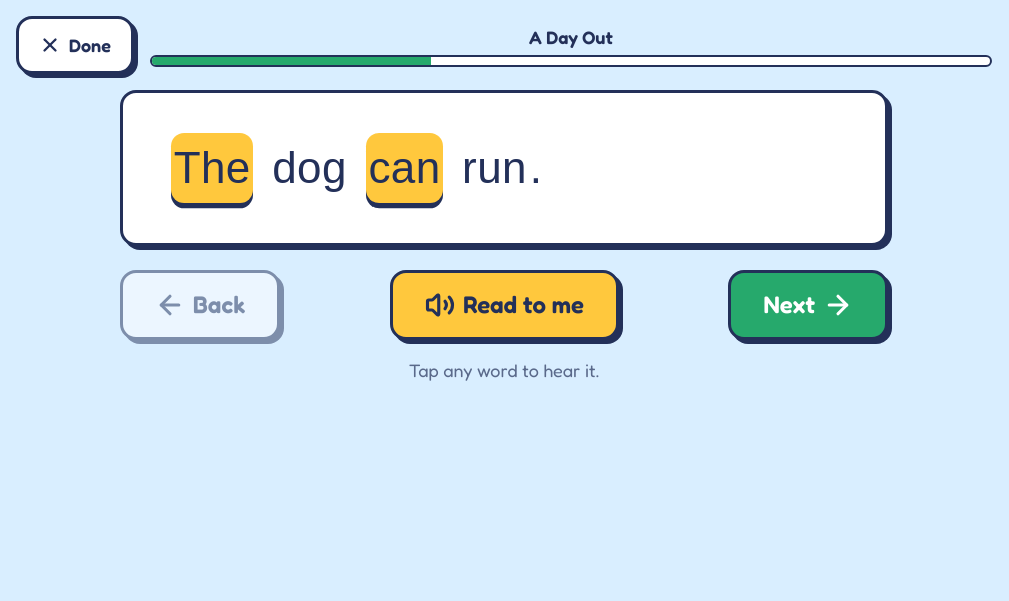
Test: StoryReader › marks a saved story as saved
What coordinates should you click on to do the following:
click the button "Next"
I would click on:
 (808, 305)
Its box is [728,270,888,340].
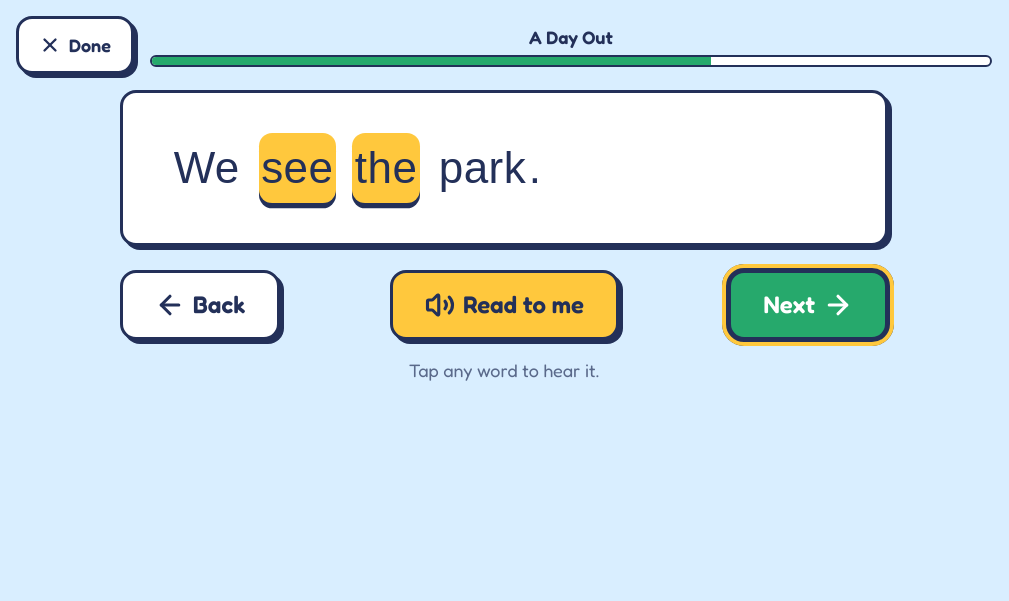
What coordinates should you click on to do the following:
click the button "Next"
I would click on:
 (808, 305)
Its box is [728,270,888,340].
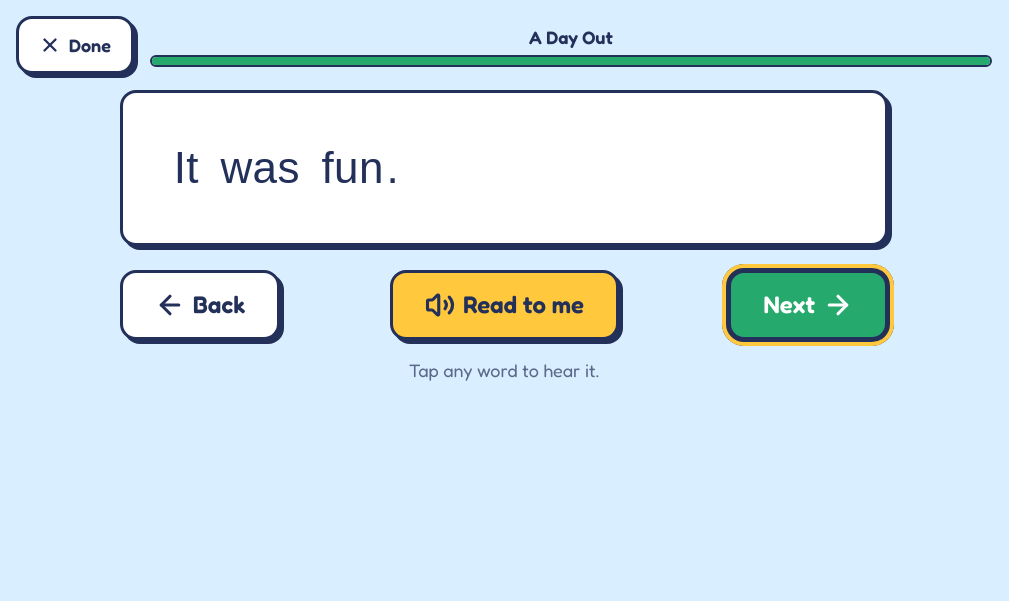
What coordinates should you click on to do the following:
click the button "Next"
I would click on:
 (808, 305)
Its box is [728,270,888,340].
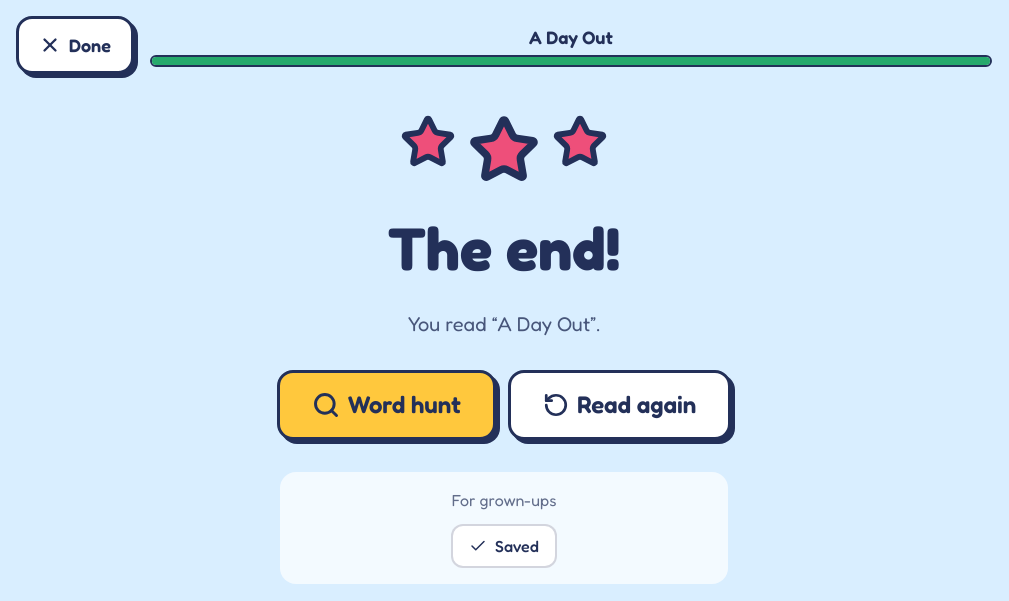
expect the button "Saved" is disabled: met, box [451,524,557,568]
